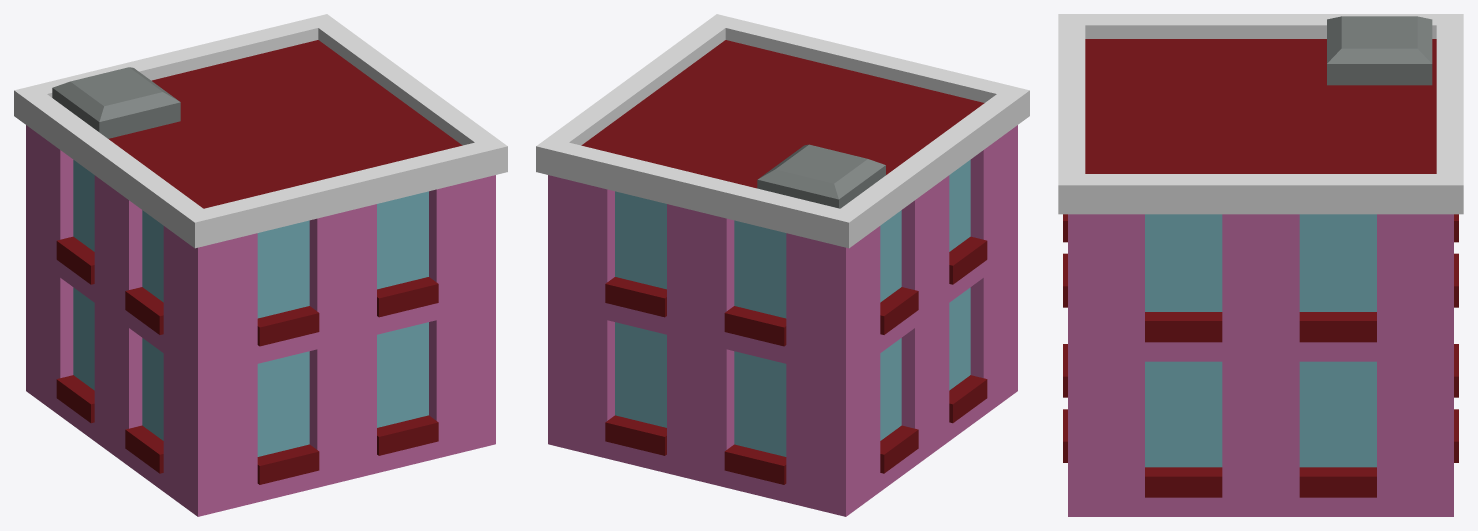
File: buildingF.fbx
3 renders of one model, left to right at view 1: azimuth 30°, elevation 25°; view 2: azimuth 150°, elevation 25°; view 3: azimuth 270°, elevation 25°, orthographic. The views are drawn at different scales.
Visible parts, largest first — view 1: BuildingF; view 2: BuildingF; view 3: BuildingF.
Part boxes in pixels (<box>): BuildingF: <box>14,14,507,516</box>; BuildingF: <box>536,14,1029,516</box>; BuildingF: <box>1058,14,1463,516</box>.
Bounding box in the file's own units: 840 × 806 × 840.
